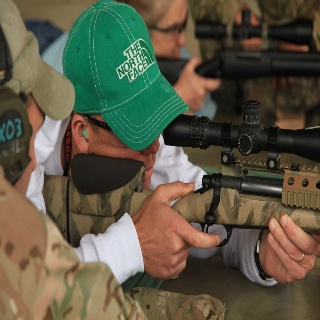rifle: (41, 95, 320, 249)
